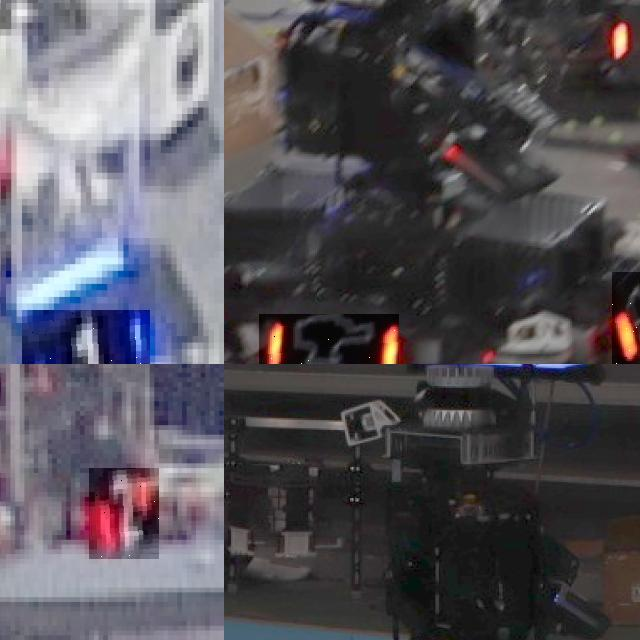B1: (22, 310, 150, 364)
R2: (89, 468, 159, 559)
Rs: (259, 313, 399, 364), (612, 272, 640, 364)
